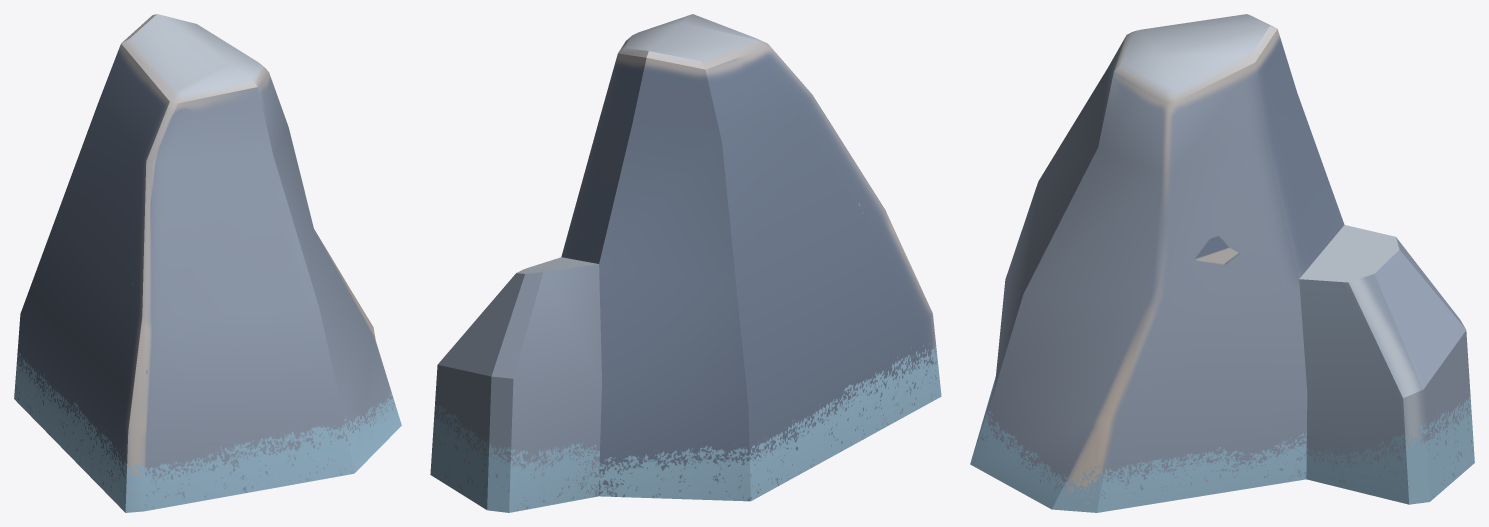
The model's file is Rock.fbx.
3 renders of one model, left to right at view 1: azimuth 30°, elevation 25°; view 2: azimuth 150°, elevation 25°; view 3: azimuth 270°, elevation 25°, orthographic. The views are drawn at different scales.
Visible parts, largest first — view 1: Rock; view 2: Rock; view 3: Rock.
Part boxes in pixels (<box>): Rock: <box>14,14,401,512</box>; Rock: <box>430,14,941,512</box>; Rock: <box>970,14,1474,512</box>.
Bounding box in the file's own units: 118 × 138 × 155.
